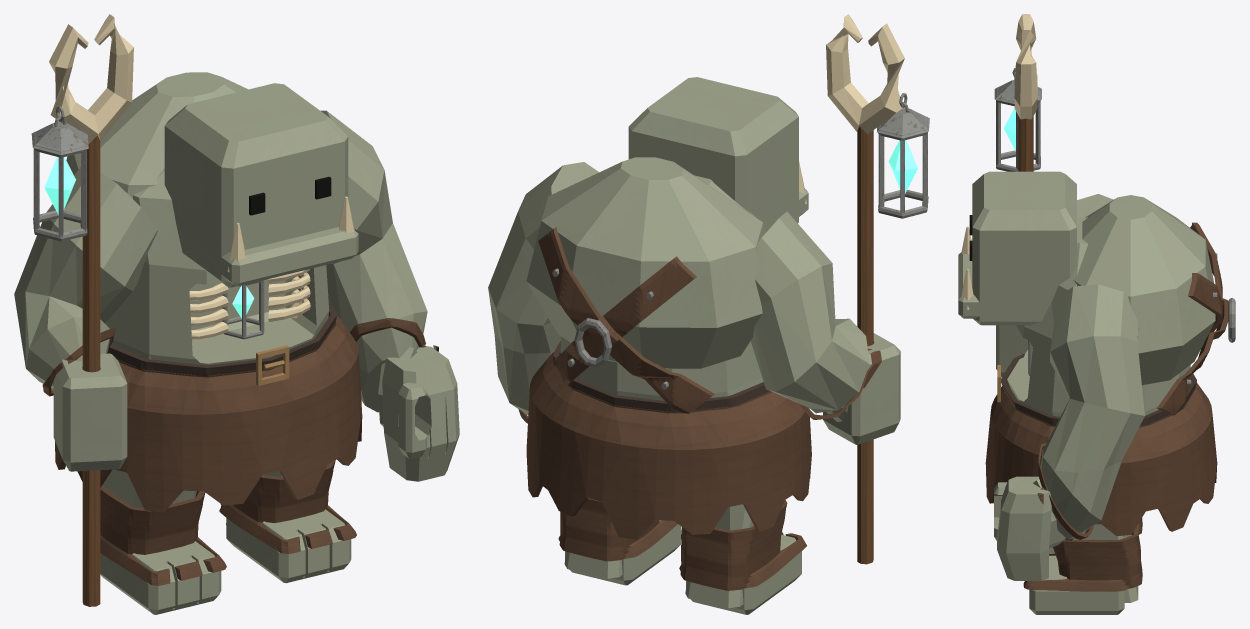
The model's file is host_32.glb.
3 renders of one model, left to right at view 1: azimuth 30°, elevation 25°; view 2: azimuth 150°, elevation 25°; view 3: azimuth 270°, elevation 25°, orthographic. The views are drawn at different scales.
Visible parts, largest first — view 1: Body — continuous source torso, four joints and planted legs, Clothing — broad source ragged leather skirt, Head — complete continuous skull and neck, Hand — LEFT connected source fist and wrist, Hand — RIGHT source compact planar grasp, Source ankle — true fitted leather wrap 1, Staff — actual source wooden shaft, Source ankle — true fitted leather wrap -1, Face — broad source lower jaw, Source staff — curled broad ivory fork -1, Clothing — fitted thin leather waist belt, Source staff — curled broad ivory fork 1 (+6 smaller); view 2: Body — continuous source torso, four joints and planted legs, Clothing — broad source ragged leather skirt, Head — complete continuous skull and neck, Source ankle — true fitted leather wrap 1, Staff — actual source wooden shaft, Source back harness — shoulder to opposite hip 1, Hand — RIGHT source compact planar grasp, Source back harness — shoulder to opposite hip -1, Source ankle — true fitted leather wrap -1, Source staff — curled broad ivory fork -1, Source staff — curled broad ivory fork 1, Clothing — fitted thin leather waist belt (+5 smaller); view 3: Body — continuous source torso, four joints and planted legs, Clothing — broad source ragged leather skirt, Head — complete continuous skull and neck, Hand — LEFT connected source fist and wrist, Source ankle — true fitted leather wrap -1, Source back harness — shoulder to opposite hip -1, Source staff — curled broad ivory fork -1, Clothing — fitted thin leather waist belt, Hand — RIGHT source compact planar grasp, Source back harness — shoulder to opposite hip 1, Face — broad source lower jaw, Staff — actual source wooden shaft (+3 smaller).
Boxes of the visible parts, x1,y1,x2,y2 form: Body — continuous source torso, four joints and planted legs: [14, 72, 427, 614]; Clothing — broad source ragged leather skirt: [55, 316, 362, 512]; Head — complete continuous skull and neck: [164, 83, 348, 287]; Hand — LEFT connected source fist and wrist: [378, 346, 459, 481]; Hand — RIGHT source compact planar grasp: [53, 353, 127, 471]; Source ankle — true fitted leather wrap 1: [100, 485, 226, 585]; Staff — actual source wooden shaft: [82, 135, 100, 606]; Source ankle — true fitted leather wrap -1: [219, 460, 356, 554]; Face — broad source lower jaw: [220, 227, 358, 286]; Source staff — curled broad ivory fork -1: [88, 14, 133, 140]; Clothing — fitted thin leather waist belt: [107, 300, 336, 375]; Source staff — curled broad ivory fork 1: [49, 24, 98, 143]; Body — continuous source torso, four joints and planted legs: [488, 157, 869, 614]; Clothing — broad source ragged leather skirt: [526, 352, 811, 539]; Head — complete continuous skull and neck: [628, 77, 798, 232]; Source ankle — true fitted leather wrap 1: [679, 500, 806, 590]; Staff — actual source wooden shaft: [857, 127, 873, 564]; Source back harness — shoulder to opposite hip 1: [538, 227, 714, 413]; Hand — RIGHT source compact planar grasp: [823, 333, 900, 444]; Source back harness — shoulder to opposite hip -1: [556, 256, 696, 384]; Source ankle — true fitted leather wrap -1: [558, 498, 677, 561]; Source staff — curled broad ivory fork -1: [826, 14, 868, 131]; Source staff — curled broad ivory fork 1: [859, 23, 904, 134]; Clothing — fitted thin leather waist belt: [553, 341, 770, 412]; Body — continuous source torso, four joints and planted legs: [1007, 194, 1215, 614]; Clothing — broad source ragged leather skirt: [985, 382, 1217, 540]; Head — complete continuous skull and neck: [972, 171, 1076, 325]; Hand — LEFT connected source fist and wrist: [994, 476, 1065, 580]; Source ankle — true fitted leather wrap -1: [1023, 523, 1142, 591]; Source back harness — shoulder to opposite hip -1: [1157, 222, 1228, 415]; Source staff — curled broad ivory fork -1: [1014, 30, 1037, 119]; Clothing — fitted thin leather waist belt: [1001, 353, 1196, 426]; Hand — RIGHT source compact planar grasp: [996, 325, 1028, 377]; Source back harness — shoulder to opposite hip 1: [1188, 273, 1222, 335]; Face — broad source lower jaw: [958, 252, 981, 318]; Staff — actual source wooden shaft: [1018, 116, 1033, 171].
Size of the model in its own units: 3.08 by 4.26 by 2.18.
10 materials, 8 textured.
